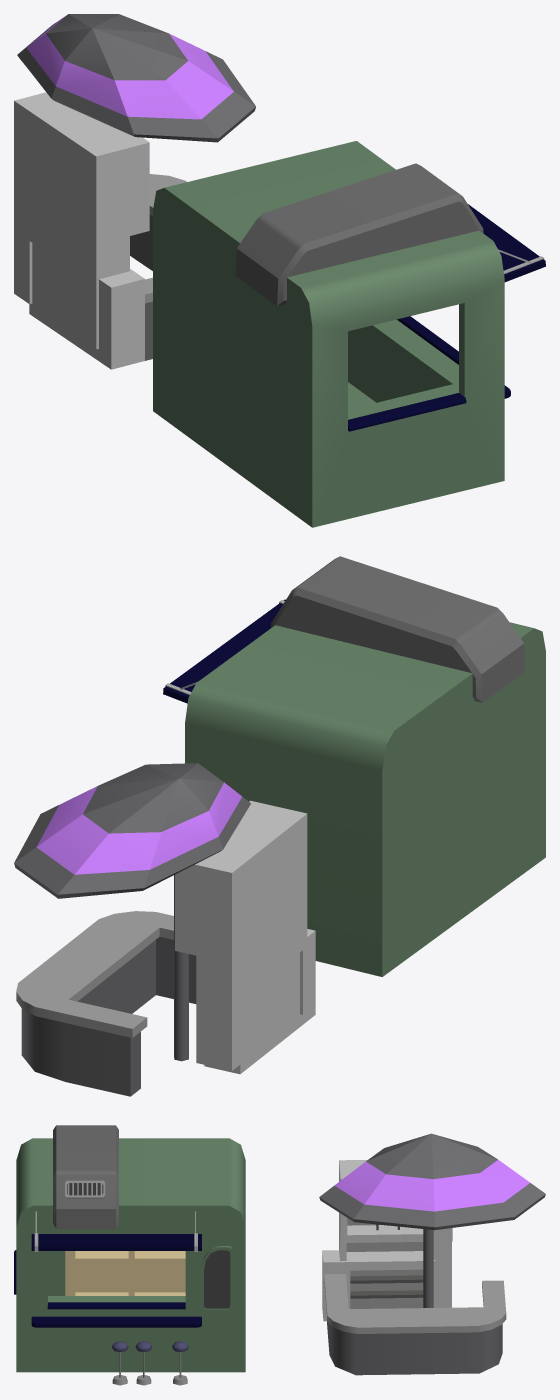
File: Lower_Plaza_Foodstands_Left.fbx
3 renders of one model, top to bottom at view 1: azimuth 30°, elevation 25°; view 2: azimuth 150°, elevation 25°; view 3: azimuth 270°, elevation 25°, orthographic. The views are drawn at different scales.
Visible parts, largest first — view 1: Foodstands_Left; view 2: Foodstands_Left; view 3: Foodstands_Left.
Part boxes in pixels (<box>): Foodstands_Left: <box>14,14,545,527</box>; Foodstands_Left: <box>14,556,545,1096</box>; Foodstands_Left: <box>14,1125,545,1385</box>.
Size of the model in its own units: 15.11 by 15.71 by 38.33.
